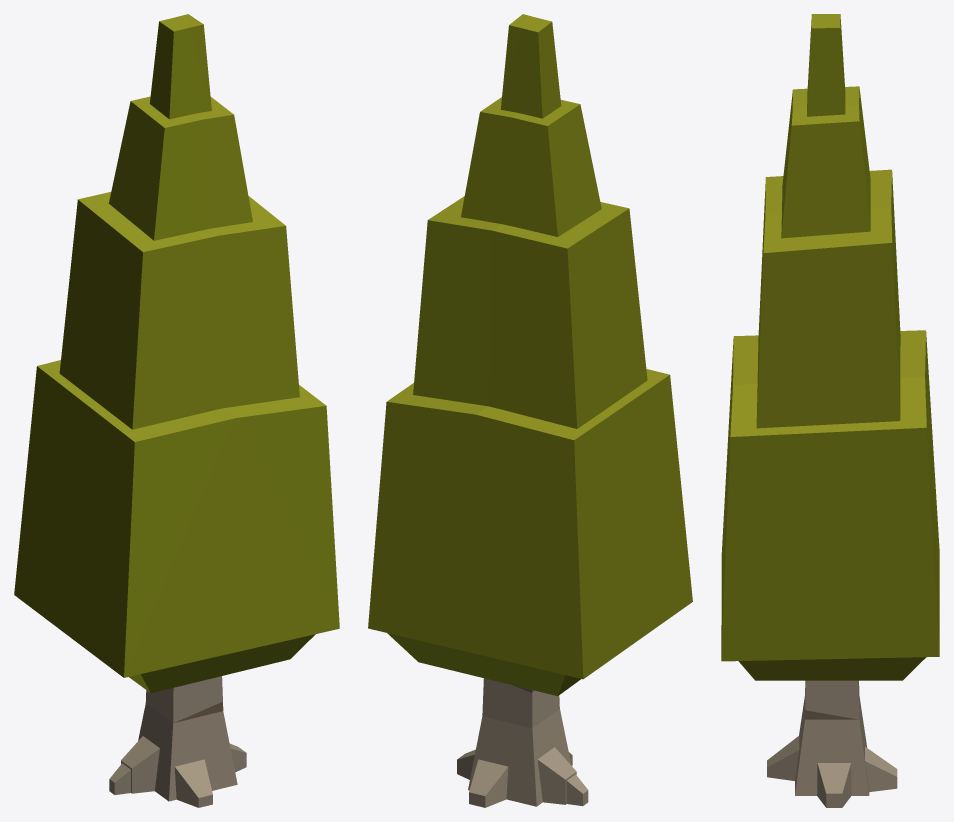
File: SmallMore_SF_Prop_Tree_05.fbx
3 views of the same model, side by side, from view 1: azimuth 30°, elevation 25°; view 2: azimuth 150°, elevation 25°; view 3: azimuth 270°, elevation 25° (orthographic).
Parts seen in each view (by area): view 1: SF_Prop_Tree_05; view 2: SF_Prop_Tree_05; view 3: SF_Prop_Tree_05.
Boxes of the visible parts, x1,y1,x2,y2 form: SF_Prop_Tree_05: [14, 14, 339, 807]; SF_Prop_Tree_05: [368, 14, 692, 807]; SF_Prop_Tree_05: [721, 14, 939, 807].
Bounding box in the file's own units: 129 × 433 × 113.
